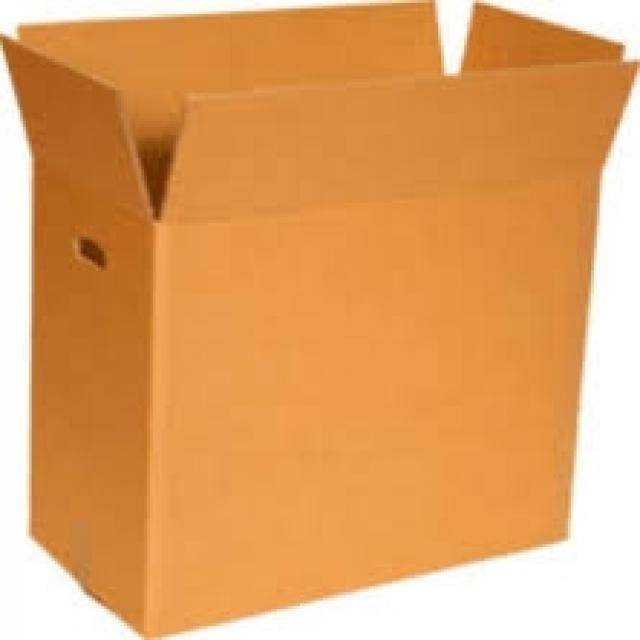cardboard paper: (0, 0, 639, 640), (495, 0, 638, 56)
